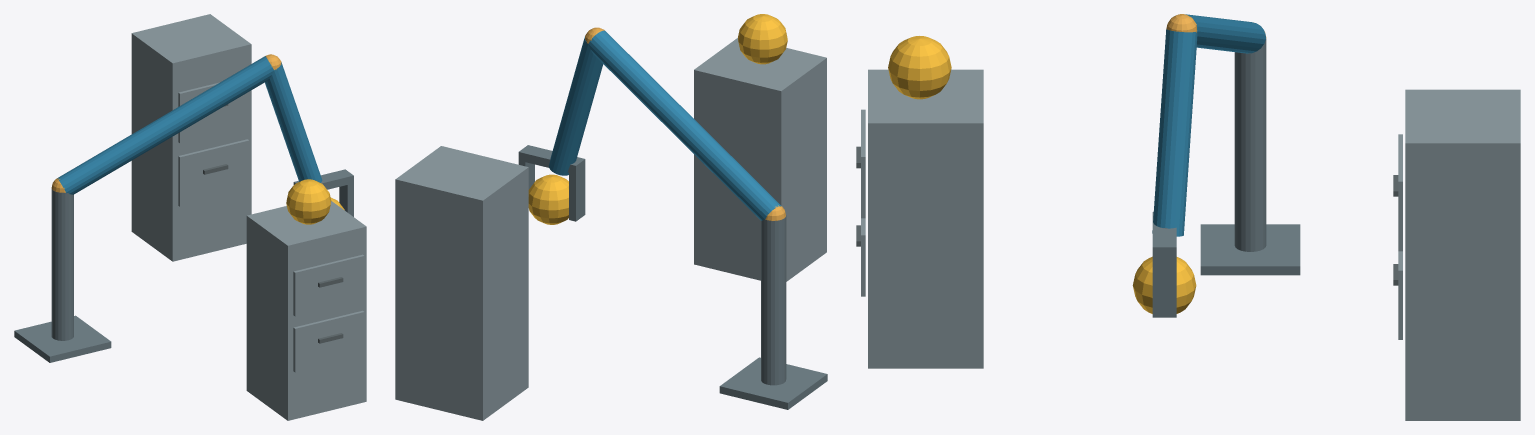
3 views of the same model, side by side, from view 1: azimuth 30°, elevation 25°; view 2: azimuth 150°, elevation 25°; view 3: azimuth 270°, elevation 25° (orthographic). The views are drawn at different scales.
Parts seen in each view (by area): view 1: cabinet_2 body, cabinet_1 body, moving link 1, cabinet_2 drawer front, fixed post, cabinet_1 drawer front, cabinet_1 drawer front.001, moving link 2, pedestal, cabinet_2 drawer front.001, released ball_1, gripper bridge (+1 smaller); view 2: cabinet_2 body, cabinet_1 body, moving link 1, fixed post, moving link 2, pedestal, released ball_1, ball ball_2, gripper finger -1, gripper bridge; view 3: cabinet_2 body, cabinet_1 body, fixed post, moving link 2, pedestal, released ball_1, moving link 1, ball ball_2, gripper finger 1, gripper bridge.
Part boxes in pixels (box(x1,y1,x2,y2)): cabinet_2 body: box(131, 14, 251, 261); cabinet_1 body: box(246, 201, 366, 420); moving link 1: box(57, 56, 273, 194); cabinet_2 drawer front: box(178, 139, 249, 206); fixed post: box(51, 189, 73, 340); cabinet_1 drawer front: box(293, 310, 364, 372); cabinet_1 drawer front.001: box(293, 254, 364, 316); moving link 2: box(265, 62, 322, 182); pedestal: box(14, 315, 111, 362); cabinet_2 drawer front.001: box(178, 82, 249, 143); released ball_1: box(286, 179, 331, 224); gripper bridge: box(293, 169, 353, 189); cabinet_2 body: box(395, 146, 528, 420); cabinet_1 body: box(694, 38, 826, 281); moving link 1: box(588, 30, 781, 220); fixed post: box(761, 215, 786, 385); moving link 2: box(549, 37, 603, 175); pedestal: box(719, 357, 827, 409); released ball_1: box(738, 14, 787, 64); ball ball_2: box(528, 174, 568, 224); gripper finger -1: box(569, 168, 585, 221); gripper bridge: box(518, 145, 585, 174); cabinet_2 body: box(1405, 89, 1520, 420); cabinet_1 body: box(868, 69, 983, 368); fixed post: box(1234, 39, 1266, 251); moving link 2: box(1152, 29, 1197, 236); pedestal: box(1200, 224, 1300, 275); released ball_1: box(888, 36, 951, 99); moving link 1: box(1185, 14, 1265, 53); ball ball_2: box(1132, 256, 1196, 313); gripper finger 1: box(1152, 258, 1176, 317); gripper bridge: box(1152, 212, 1176, 257).
Size of the model in its own units: 1.17 by 1.01 by 1.67.
